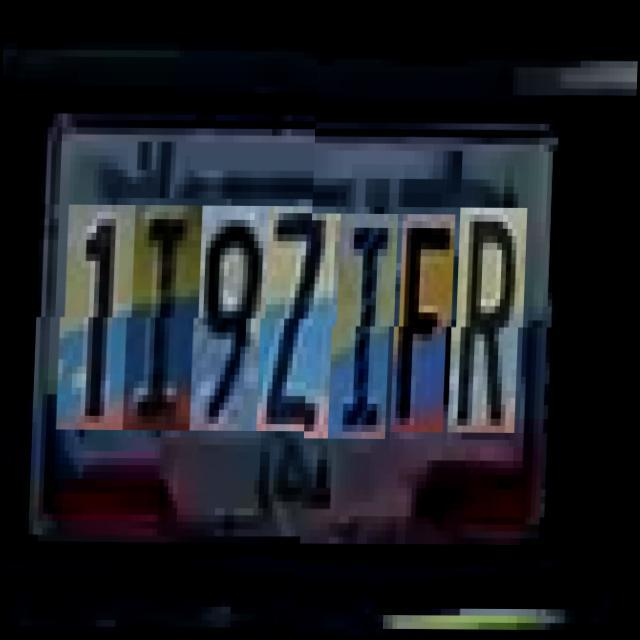1: (64, 212, 138, 436)
9: (197, 212, 271, 438)
F: (398, 214, 457, 432)
I: (130, 212, 204, 437), (336, 213, 400, 438)
R: (456, 207, 530, 432)
Z: (264, 213, 342, 438)
